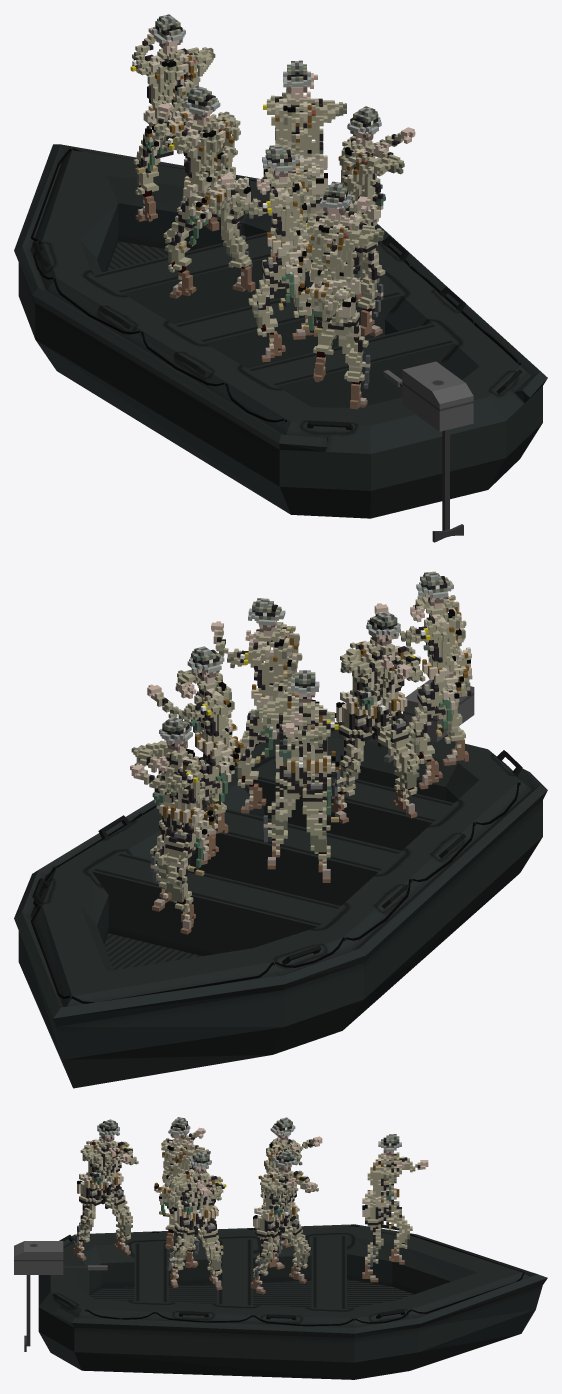
Rendered from rubber_boat.glb.
The picture shows the model from 3 angles, top to bottom: view 1: azimuth 30°, elevation 25°; view 2: azimuth 150°, elevation 25°; view 3: azimuth 270°, elevation 25°; orthographic projection. The views are drawn at different scales.
Visible parts, largest first — view 1: 00_chassis_rubber_boat.mesh, crew_soldier_SLOT_03_PASSENGER, crew_soldier_SLOT_00_DRIVER, crew_soldier_SLOT_02_PASSENGER, crew_soldier_SLOT_05_PASSENGER, crew_soldier_SLOT_01_PASSENGER, crew_soldier_SLOT_04_PASSENGER; view 2: 00_chassis_rubber_boat.mesh, crew_soldier_SLOT_02_PASSENGER, crew_soldier_SLOT_03_PASSENGER, crew_soldier_SLOT_05_PASSENGER, crew_soldier_SLOT_00_DRIVER, crew_soldier_SLOT_04_PASSENGER, crew_soldier_SLOT_01_PASSENGER; view 3: 00_chassis_rubber_boat.mesh, crew_soldier_SLOT_00_DRIVER, crew_soldier_SLOT_01_PASSENGER, crew_soldier_SLOT_04_PASSENGER, crew_soldier_SLOT_05_PASSENGER, crew_soldier_SLOT_02_PASSENGER, crew_soldier_SLOT_03_PASSENGER.
Boxes of the visible parts, box(x1,y1,x2,y2) form: 00_chassis_rubber_boat.mesh: box(14, 144, 547, 542); crew_soldier_SLOT_03_PASSENGER: box(152, 86, 255, 298); crew_soldier_SLOT_00_DRIVER: box(298, 181, 384, 409); crew_soldier_SLOT_02_PASSENGER: box(220, 145, 317, 362); crew_soldier_SLOT_05_PASSENGER: box(130, 14, 219, 231); crew_soldier_SLOT_01_PASSENGER: box(327, 106, 415, 336); crew_soldier_SLOT_04_PASSENGER: box(263, 60, 346, 262); 00_chassis_rubber_boat.mesh: box(14, 679, 547, 1088); crew_soldier_SLOT_02_PASSENGER: box(331, 611, 425, 823); crew_soldier_SLOT_03_PASSENGER: box(255, 670, 339, 882); crew_soldier_SLOT_05_PASSENGER: box(130, 717, 214, 934); crew_soldier_SLOT_00_DRIVER: box(374, 571, 472, 789); crew_soldier_SLOT_04_PASSENGER: box(147, 646, 243, 864); crew_soldier_SLOT_01_PASSENGER: box(211, 598, 311, 813); 00_chassis_rubber_boat.mesh: box(14, 1224, 547, 1379); crew_soldier_SLOT_00_DRIVER: box(73, 1119, 138, 1260); crew_soldier_SLOT_01_PASSENGER: box(167, 1151, 226, 1290); crew_soldier_SLOT_04_PASSENGER: box(250, 1150, 318, 1294); crew_soldier_SLOT_05_PASSENGER: box(362, 1134, 428, 1282); crew_soldier_SLOT_02_PASSENGER: box(154, 1117, 210, 1268); crew_soldier_SLOT_03_PASSENGER: box(258, 1117, 322, 1269).
Bounding box in the file's own units: 3.02 × 2.75 × 6.33.
37 materials, 1 textured.
